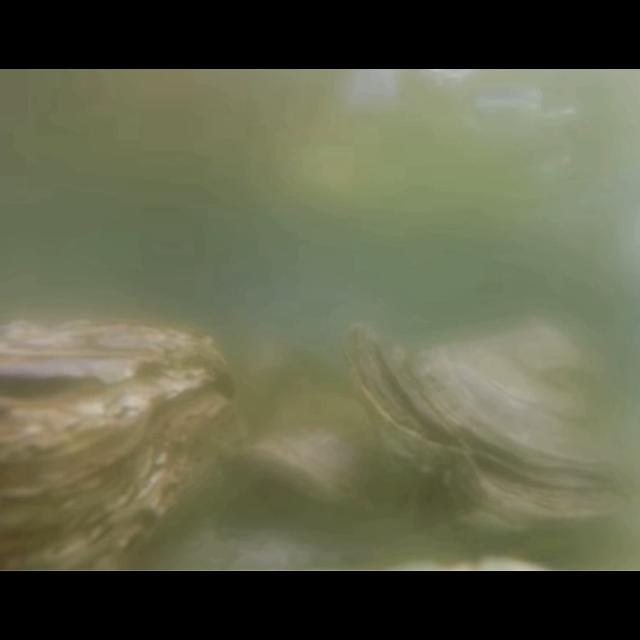Oyster-Closed: (342, 322, 640, 540), (0, 316, 250, 571), (236, 391, 388, 515)
